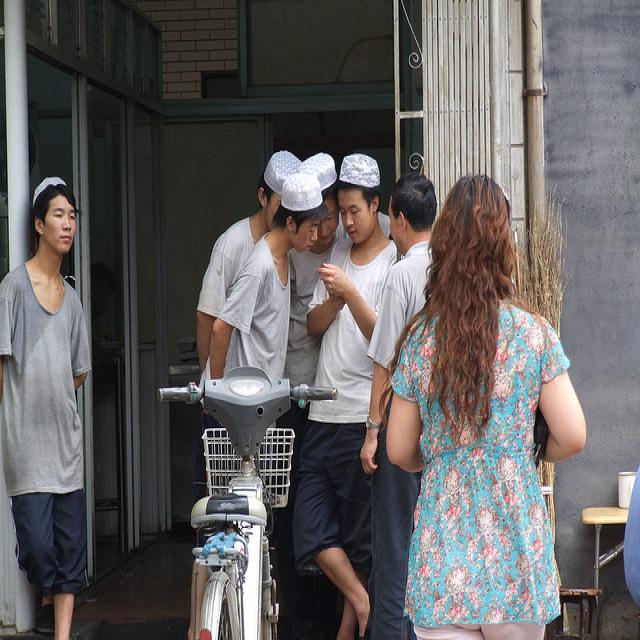motor: (156, 360, 344, 630)
